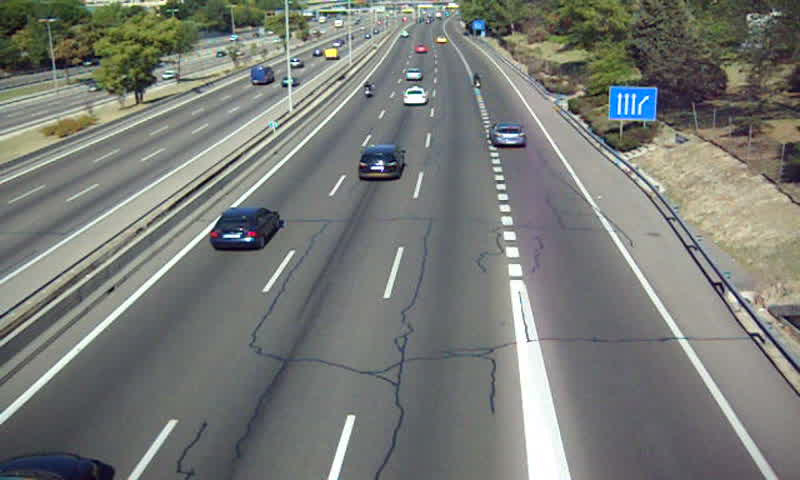car: (208, 208, 280, 247), (358, 145, 405, 177), (489, 121, 527, 148), (401, 85, 427, 106), (404, 66, 422, 80)
motorcycle: (363, 80, 374, 102), (471, 73, 483, 90)
